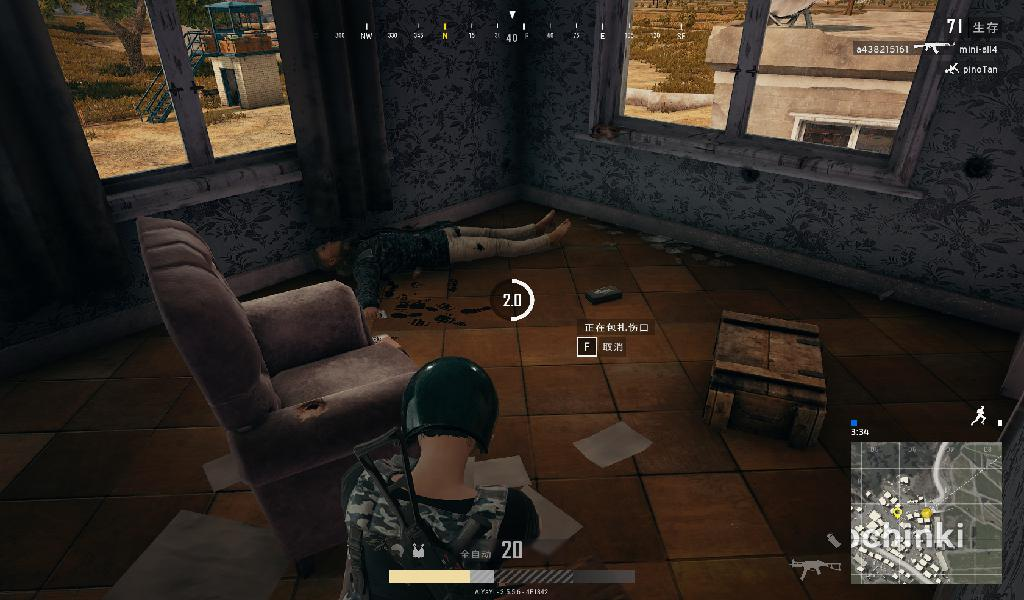Target Person: (335, 356, 543, 600), (307, 200, 577, 326)
